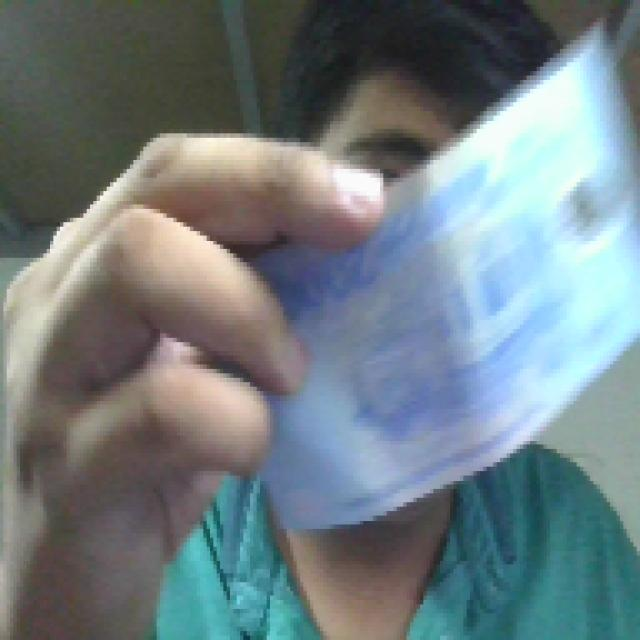20 000 VND: (236, 0, 636, 538)
